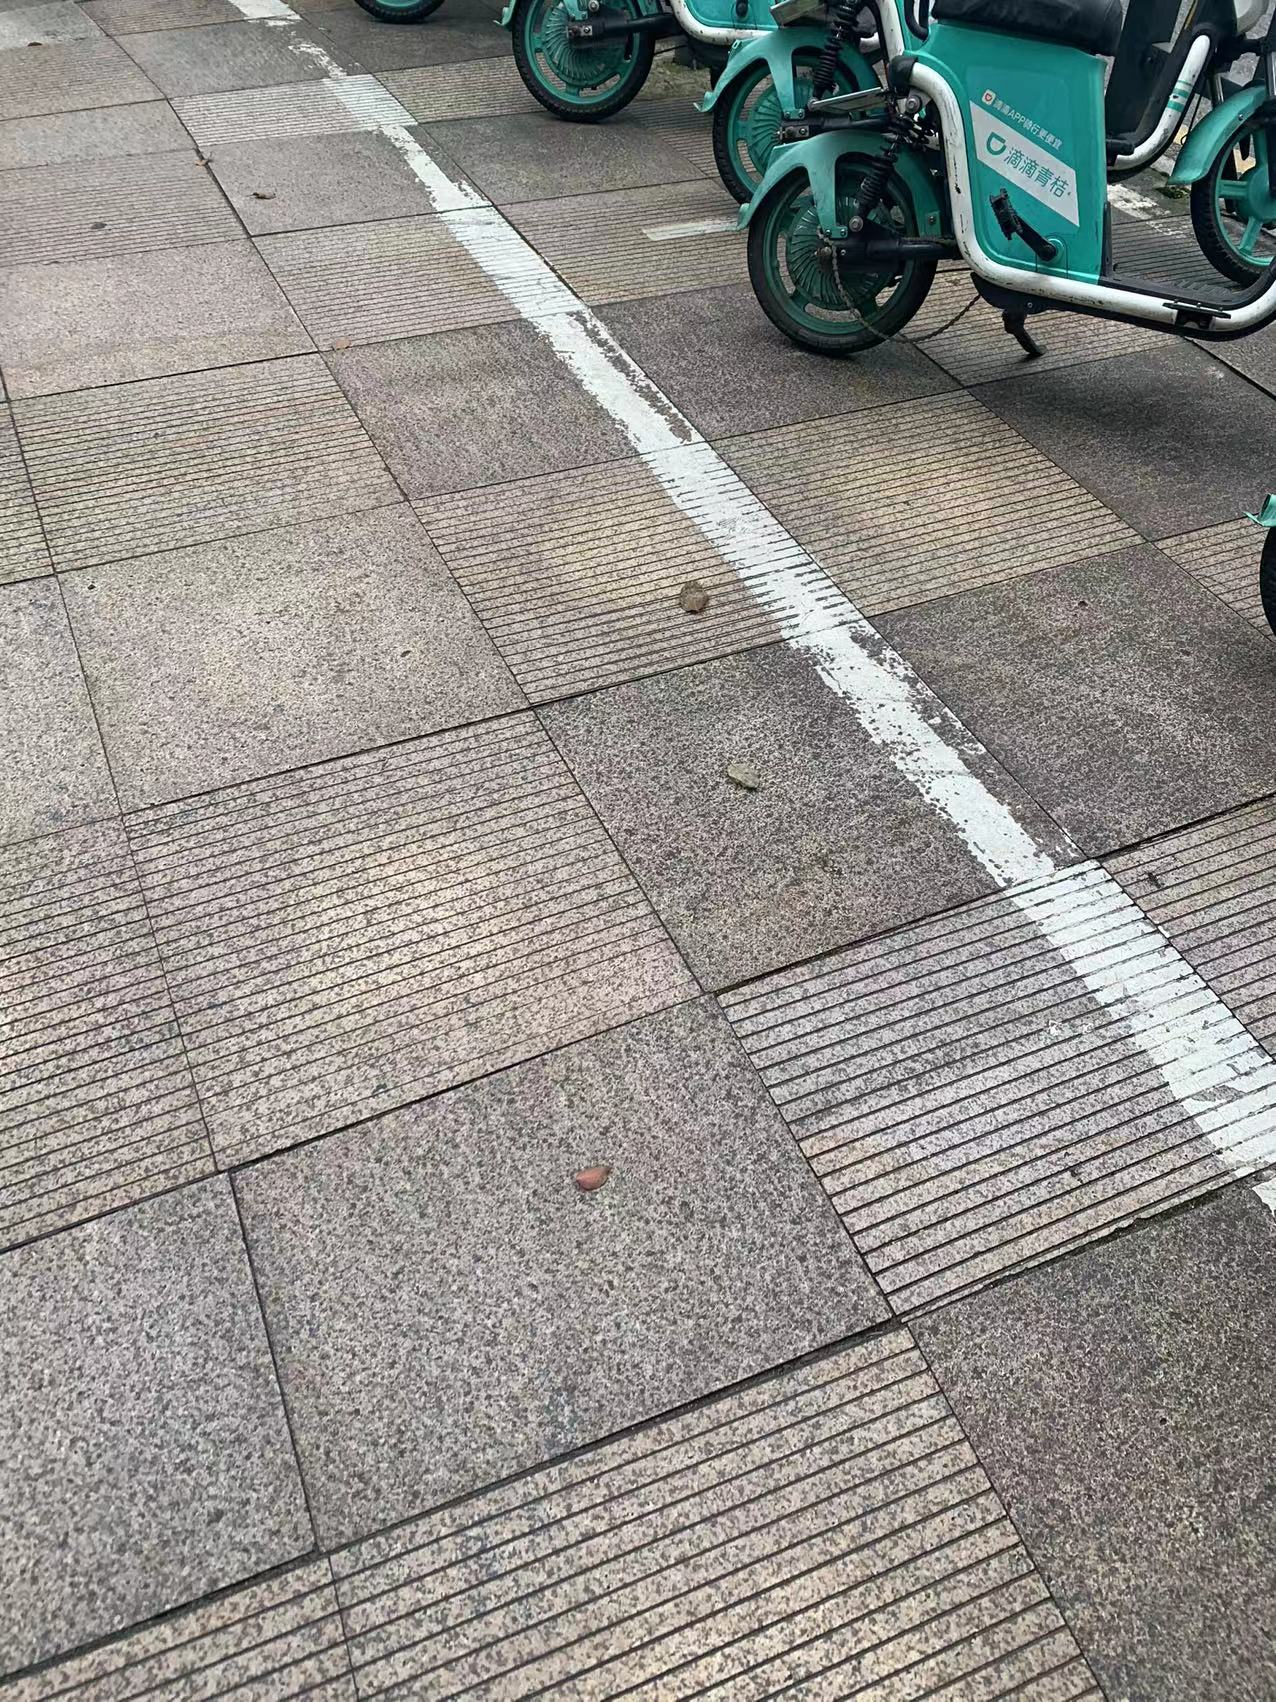leaf: (669, 574, 717, 622), (564, 1162, 615, 1199)
